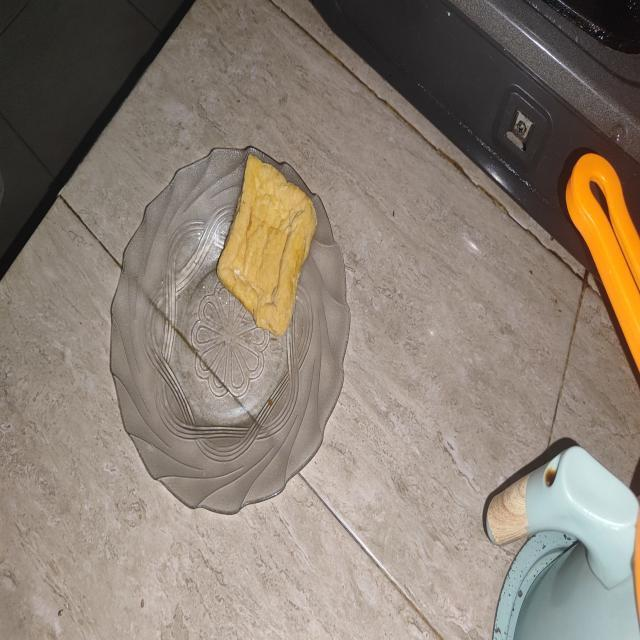tahu_goreng: (218, 154, 316, 335)
